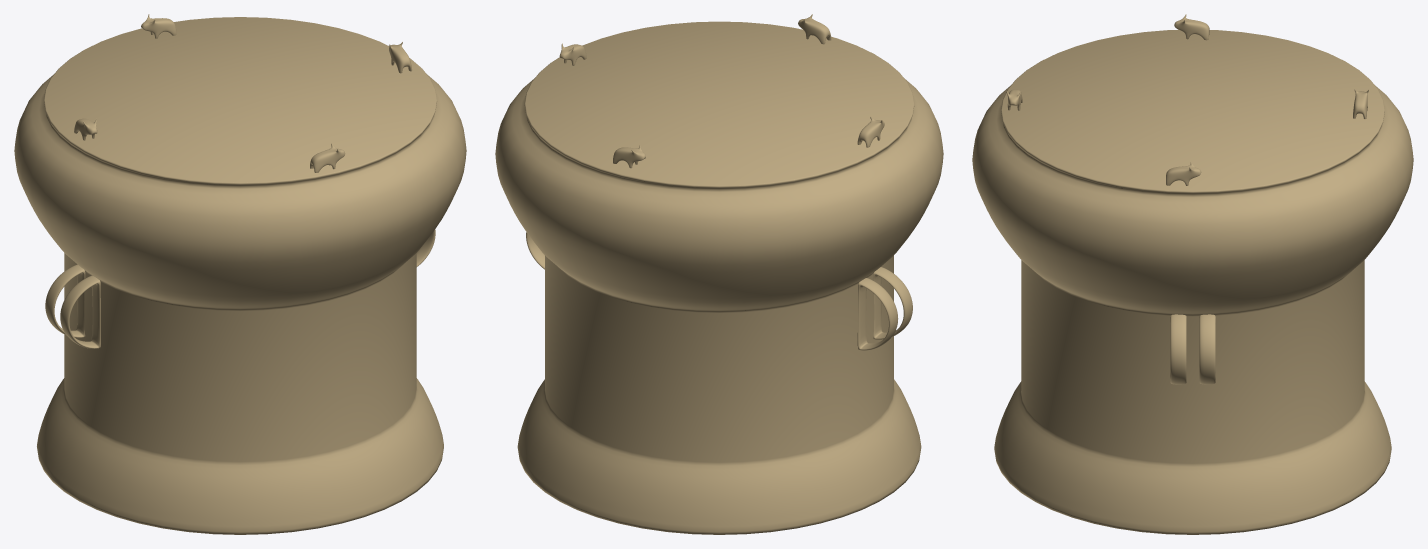
The model's file is filetex.fbx.
3 renders of one model, left to right at view 1: azimuth 30°, elevation 25°; view 2: azimuth 150°, elevation 25°; view 3: azimuth 270°, elevation 25°, orthographic. The views are drawn at different scales.
Visible parts, largest first — view 1: Sphere001; view 2: Sphere001; view 3: Sphere001.
Boxes of the visible parts, box(x1,y1,x2,y2) form: Sphere001: box(14, 14, 466, 534); Sphere001: box(495, 14, 943, 534); Sphere001: box(972, 14, 1413, 534).
Bounding box in the file's own units: 65.86 × 59.55 × 65.86.
